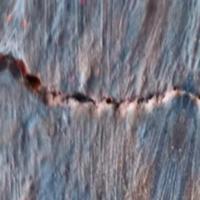crack: (0, 33, 199, 139)
